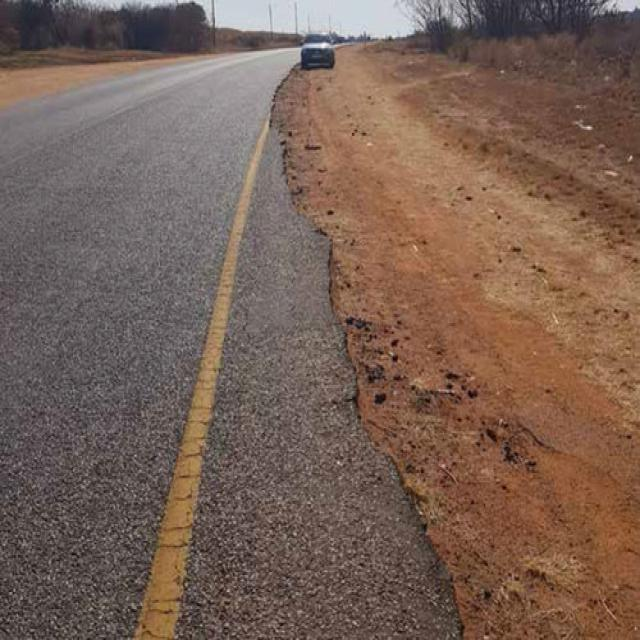Pothole: (238, 85, 640, 638)
